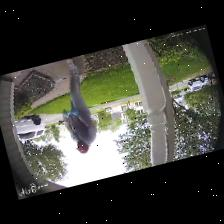person: (63, 58, 96, 152)
